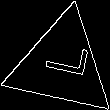L_W: (34, 44, 89, 86)
